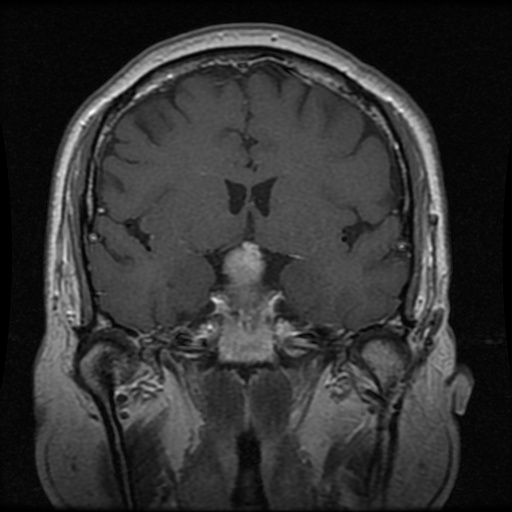pituitary: (213, 244, 274, 361)
